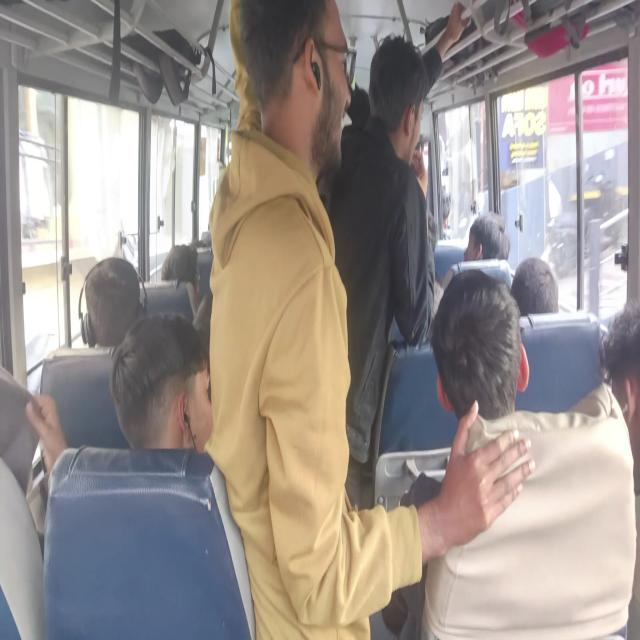person: (430, 269, 526, 422), (127, 344, 217, 444), (369, 33, 427, 135), (310, 8, 351, 147), (600, 298, 640, 402), (80, 276, 140, 329), (510, 256, 559, 316), (468, 210, 510, 263), (434, 240, 469, 283), (172, 235, 192, 293)
